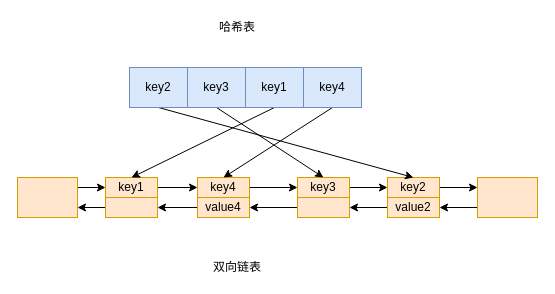
The diagram is 555 pixels wide and 294 high, and some of its shapes have lost their labels. Here are the shapes that lost their labels. From the top down, the centre of each, then its label:
At point (47, 197): "head".
At point (131, 207): "value1".
At point (323, 207): "value3".
At point (507, 197): "tail".
